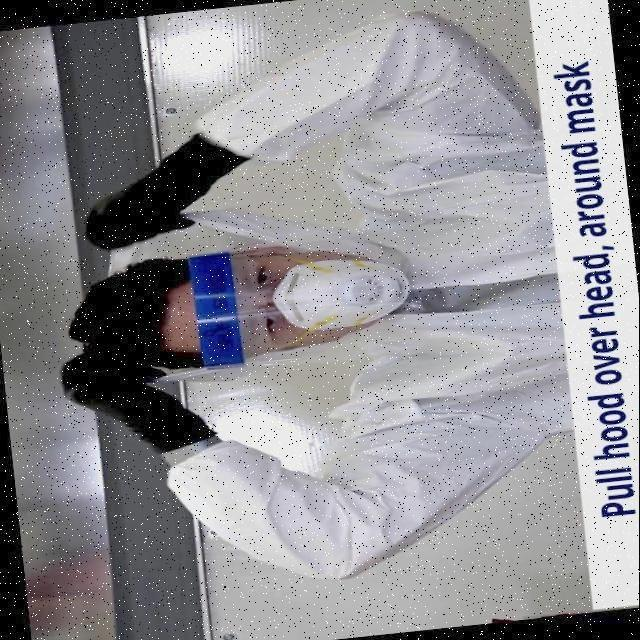apron: (82, 116, 212, 254), (74, 372, 190, 458)
